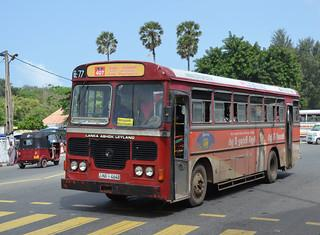bus: (66, 50, 299, 206)
